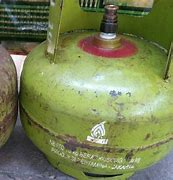gas_ijo: (20, 1, 173, 180), (1, 43, 19, 151)
